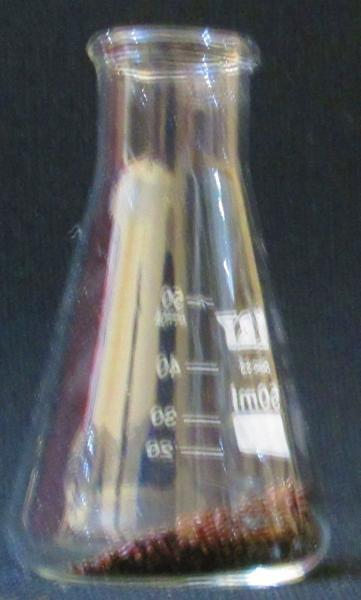Titrarion: (8, 29, 337, 571)
